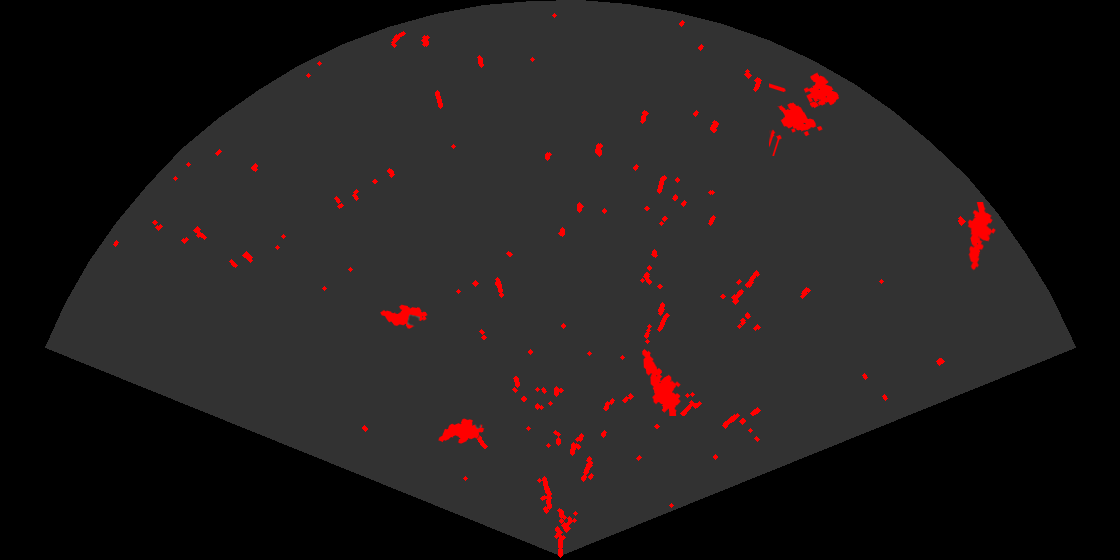AUV: (437, 417, 486, 445), (379, 303, 429, 330)
cage: (769, 71, 841, 156)
frogman: (641, 347, 682, 416), (966, 202, 997, 271)
